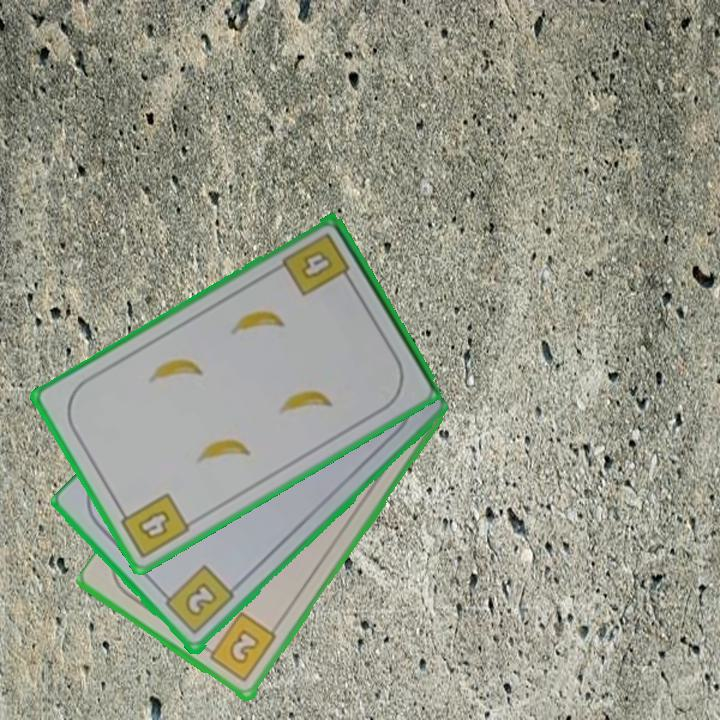2b: (200, 609, 280, 686), (157, 562, 237, 638)
4b: (114, 489, 193, 562), (278, 229, 356, 300)
